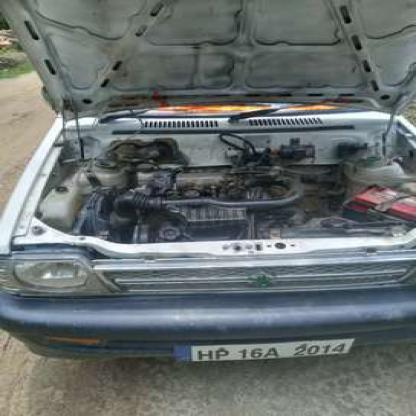license_plate: (171, 337, 352, 362)
